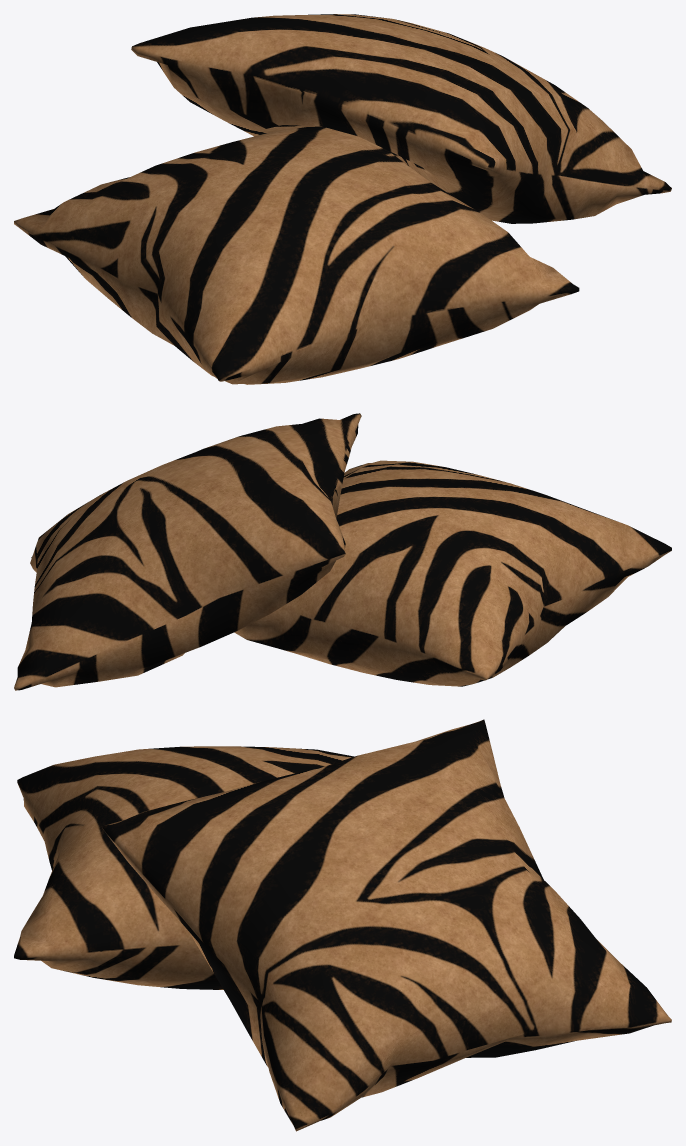
3 views of the same model, one above another, from view 1: azimuth 30°, elevation 25°; view 2: azimuth 150°, elevation 25°; view 3: azimuth 270°, elevation 25° (orthographic). The views are drawn at different scales.
Visible parts, largest first — view 1: Box002; view 2: Box002; view 3: Box002.
Part boxes in pixels (bbox=[...]): Box002: bbox=[14, 14, 671, 384]; Box002: bbox=[14, 413, 671, 690]; Box002: bbox=[14, 719, 671, 1131].
Size of the model in its own units: 94.83 by 32.3 by 89.88.
Materials: 1 (1 with a texture image).
